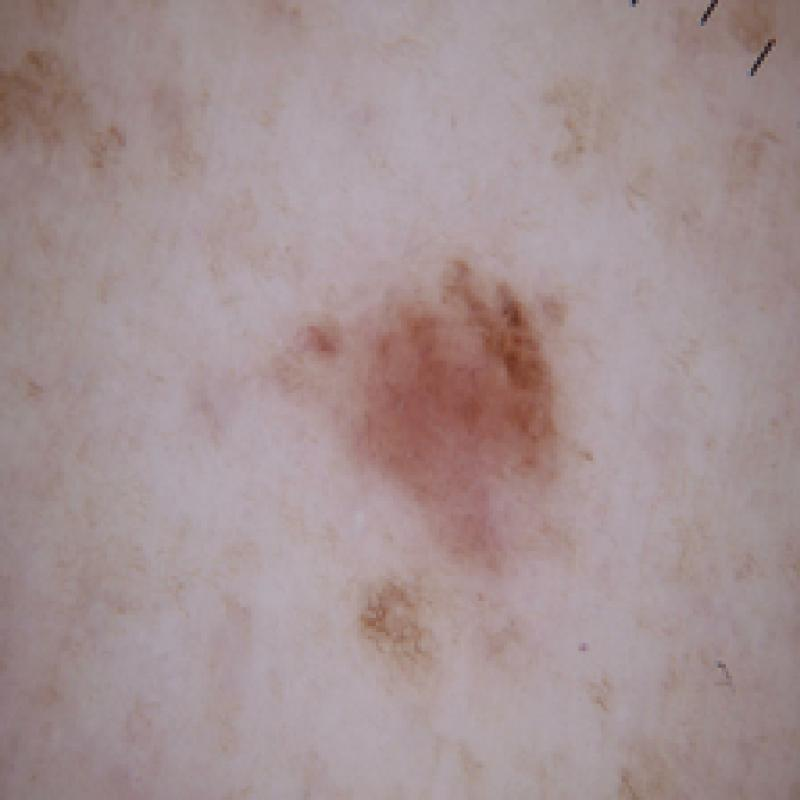benign: (231, 229, 638, 725)
